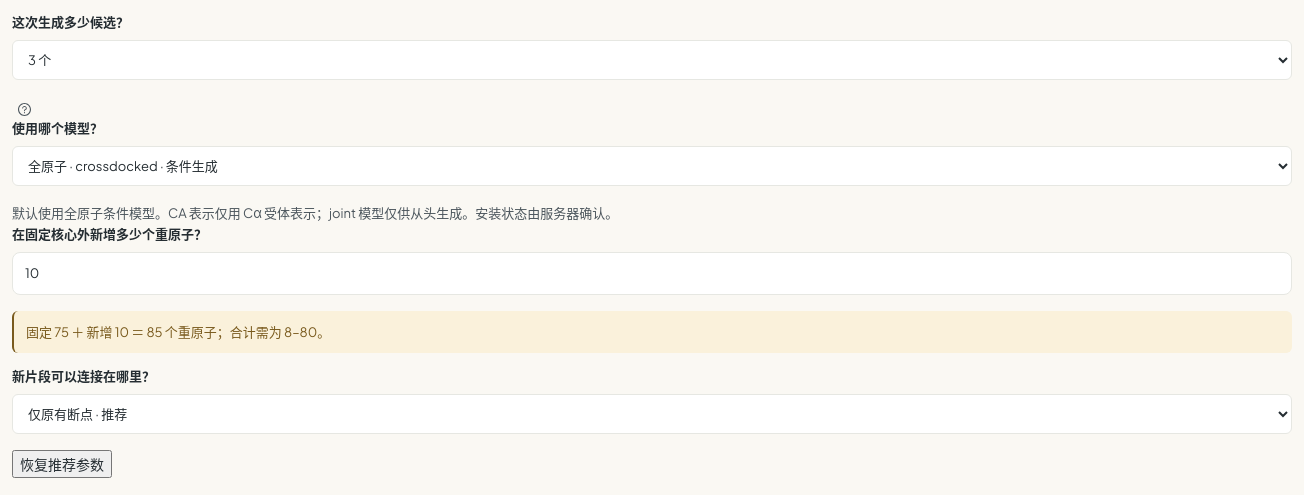
Test case: makes the true local-design budget editable without expert JSON in zh
Expected: the message shows "85", [26, 324, 330, 340]
Replace the text in the number field labelled "在固定核心外新增多少个重原子？" with "5" at [652, 273], box [12, 252, 1292, 295]
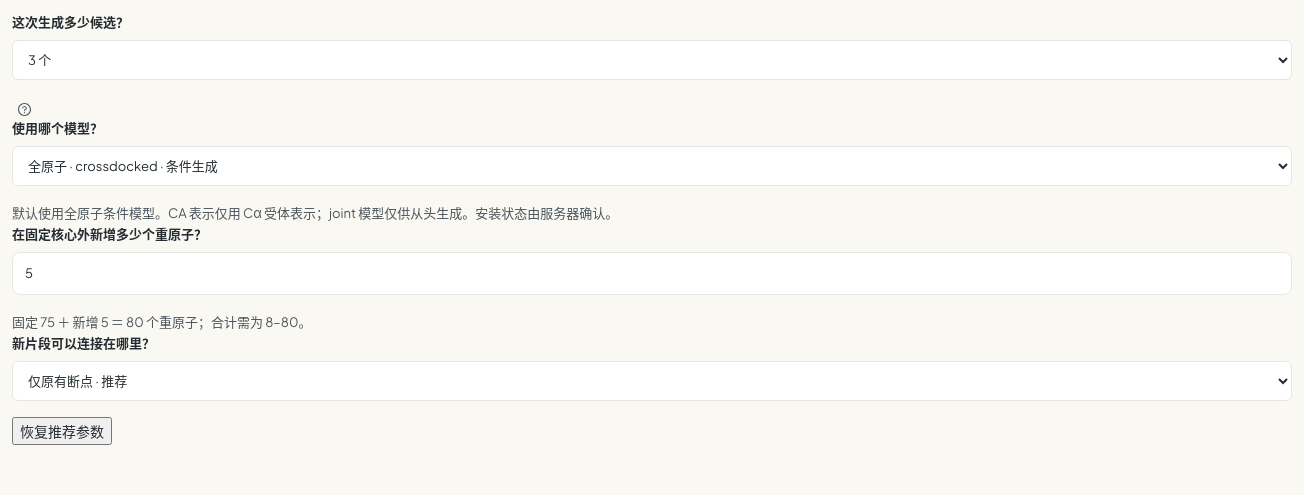
Result: the text "固定 75 ＋ 新增 5 ＝ 80 个重原子；合计需为 8–80。" is shown at [12, 314, 311, 330]
